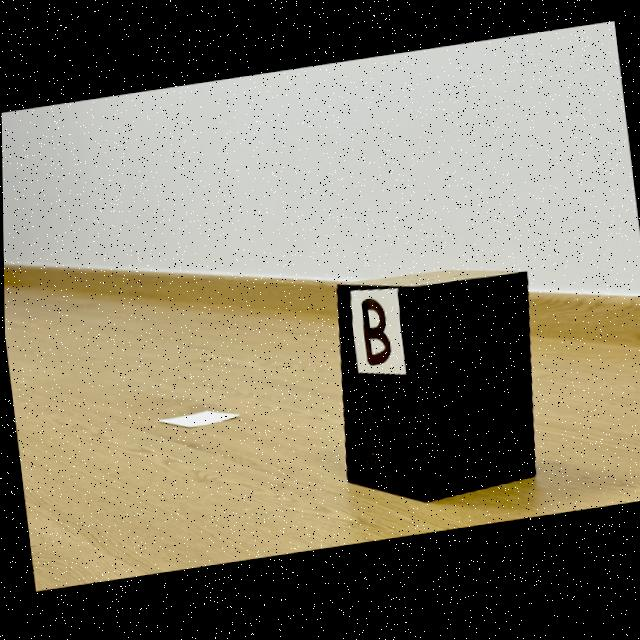B: (360, 302, 390, 370)
